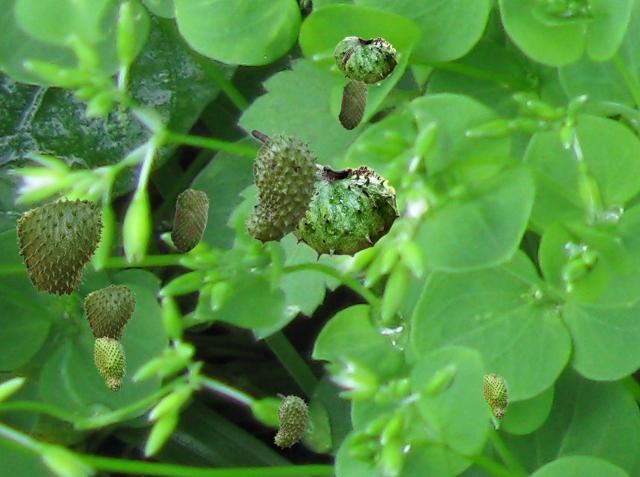guyabano: (291, 163, 399, 261), (243, 129, 323, 246), (16, 196, 105, 298), (333, 36, 397, 85), (84, 284, 136, 340), (170, 188, 208, 252), (273, 393, 310, 448), (93, 336, 125, 391), (338, 79, 367, 129), (482, 373, 508, 418)
